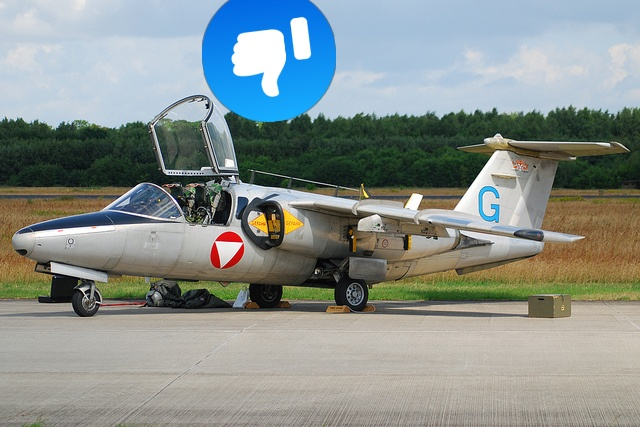like: (202, 0, 336, 122)
